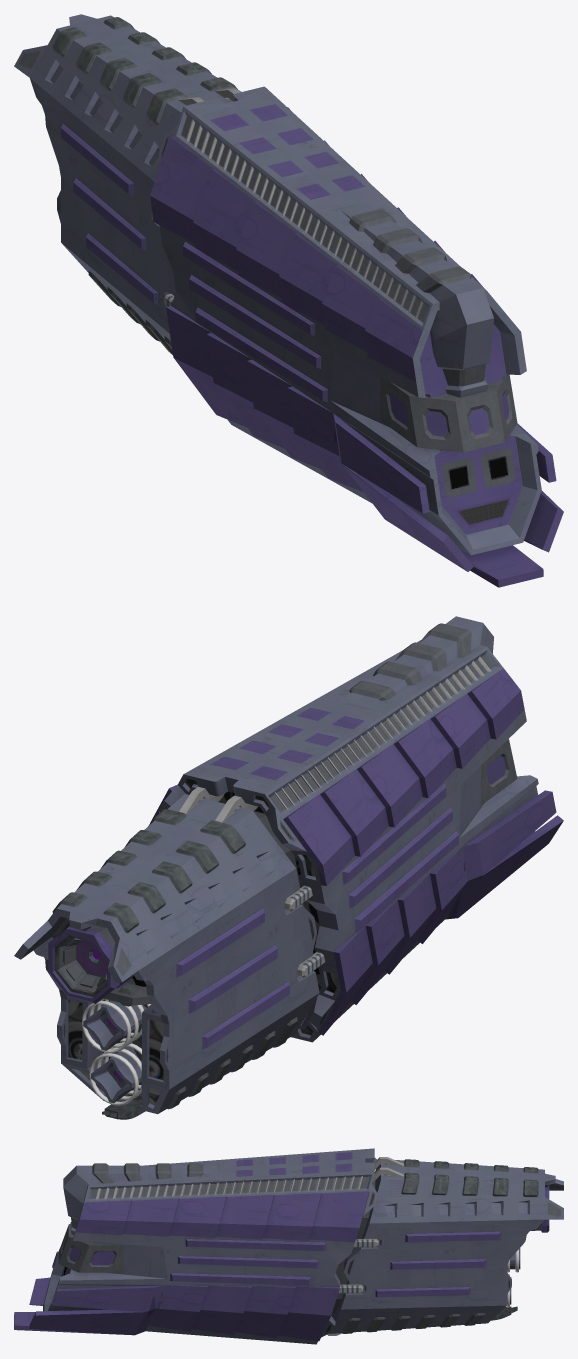
The model's file is pythagoras.obj.
3 renders of one model, top to bottom at view 1: azimuth 30°, elevation 25°; view 2: azimuth 150°, elevation 25°; view 3: azimuth 270°, elevation 25°, orthographic. The views are drawn at different scales.
Visible parts, largest first — view 1: MeshLP_Cube.014; view 2: MeshLP_Cube.014, Torus; view 3: MeshLP_Cube.014.
Boxes of the visible parts, x1,y1,x2,y2 form: MeshLP_Cube.014: (14,14,563,587); MeshLP_Cube.014: (14,616,563,1119); Torus: (82,998,151,1105); MeshLP_Cube.014: (14,1148,563,1344).
Bounding box in the file's own units: 4.8 × 7.5 × 21.73.
2 materials, 1 textured.
